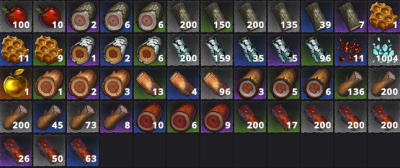birch heartwood: (100, 34, 131, 65), (68, 34, 98, 65), (134, 34, 164, 65)
birch log: (268, 34, 299, 65), (168, 34, 198, 65), (235, 34, 266, 64), (302, 35, 333, 65), (202, 35, 232, 65)
chaos ember: (335, 35, 366, 65)
ethereal dust: (369, 35, 399, 65)
oak heartwood: (101, 68, 131, 98), (68, 69, 98, 98), (35, 69, 64, 97)
oak log: (201, 68, 232, 98), (134, 69, 165, 98), (168, 69, 198, 98)
spruce heartwood: (100, 1, 131, 32), (134, 1, 165, 31), (235, 68, 265, 99), (67, 1, 97, 31), (302, 69, 332, 99), (269, 69, 299, 98)
spruce log: (167, 1, 198, 32), (268, 1, 299, 32), (302, 1, 332, 32), (335, 1, 365, 32), (201, 1, 231, 31), (235, 1, 265, 31), (34, 101, 64, 131), (335, 69, 366, 98), (101, 102, 132, 131), (370, 69, 400, 98), (68, 102, 98, 131), (1, 102, 30, 130)
yew heartwood: (168, 101, 199, 131), (135, 102, 165, 132), (201, 101, 231, 131)
yew log: (1, 133, 32, 165), (334, 101, 366, 131), (235, 102, 266, 132), (369, 101, 399, 132), (67, 134, 97, 165), (303, 101, 332, 131), (35, 135, 64, 165), (270, 102, 299, 131)
